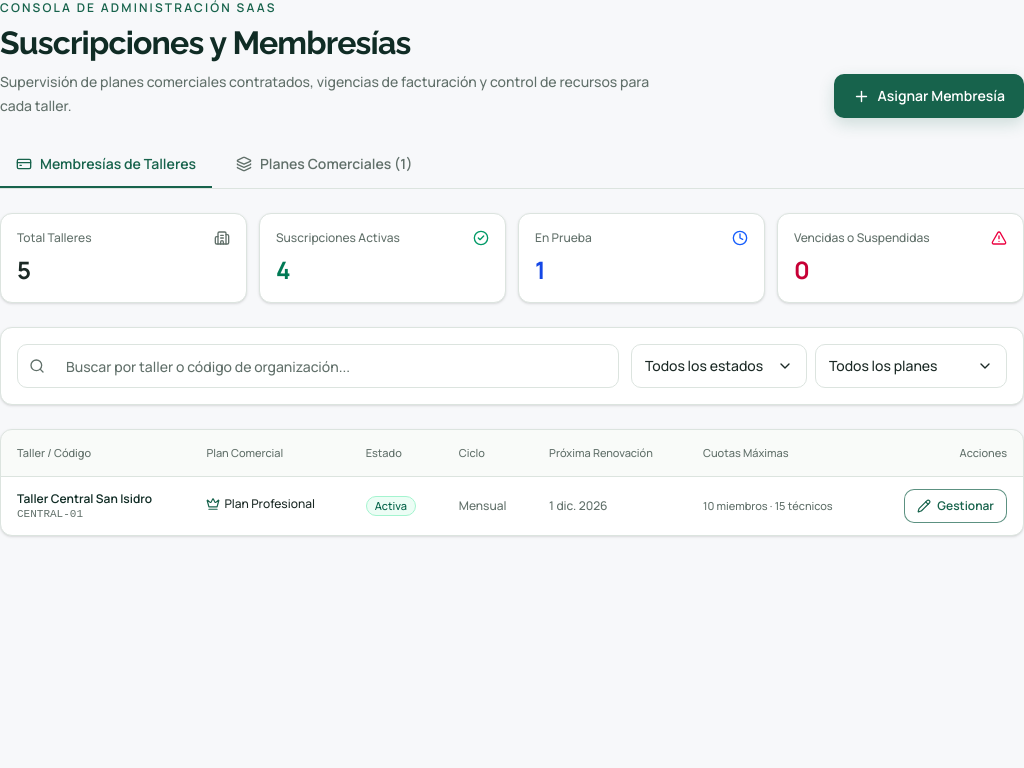
PlatformSubscriptionsPage › abre el modal de asignación de membresía al hacer clic en Asignar Membresía
The image size is (1024, 768).
Click the button "Asignar Membresía": (929, 96) [834,74,1023,118]
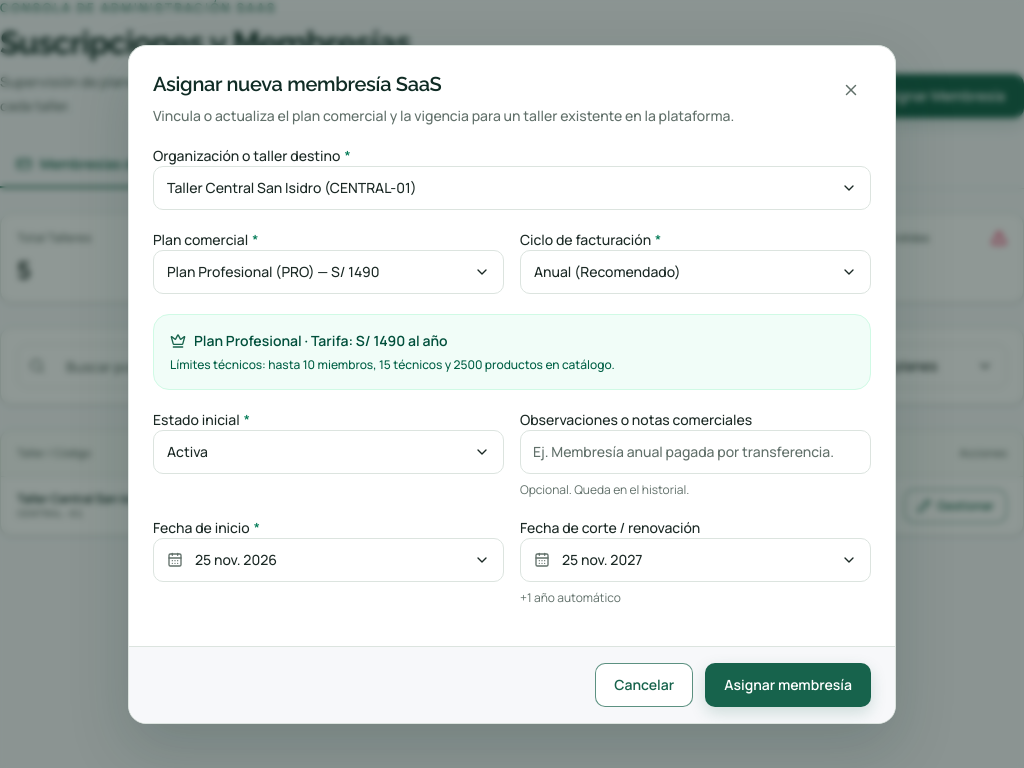
expect the heading "Asignar nueva membresía SaaS" is shown: met, box [153,72,442,96]
expect the text "Vincula o actualiza el plan comercial y la vigencia para un taller existente" is shown: met, box [153,106,734,124]
